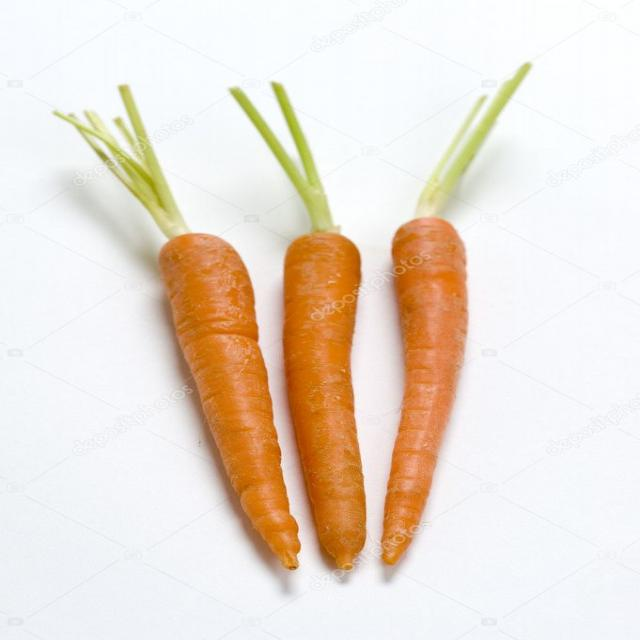Carrot: (59, 84, 309, 568), (377, 60, 534, 569), (230, 88, 373, 567)
